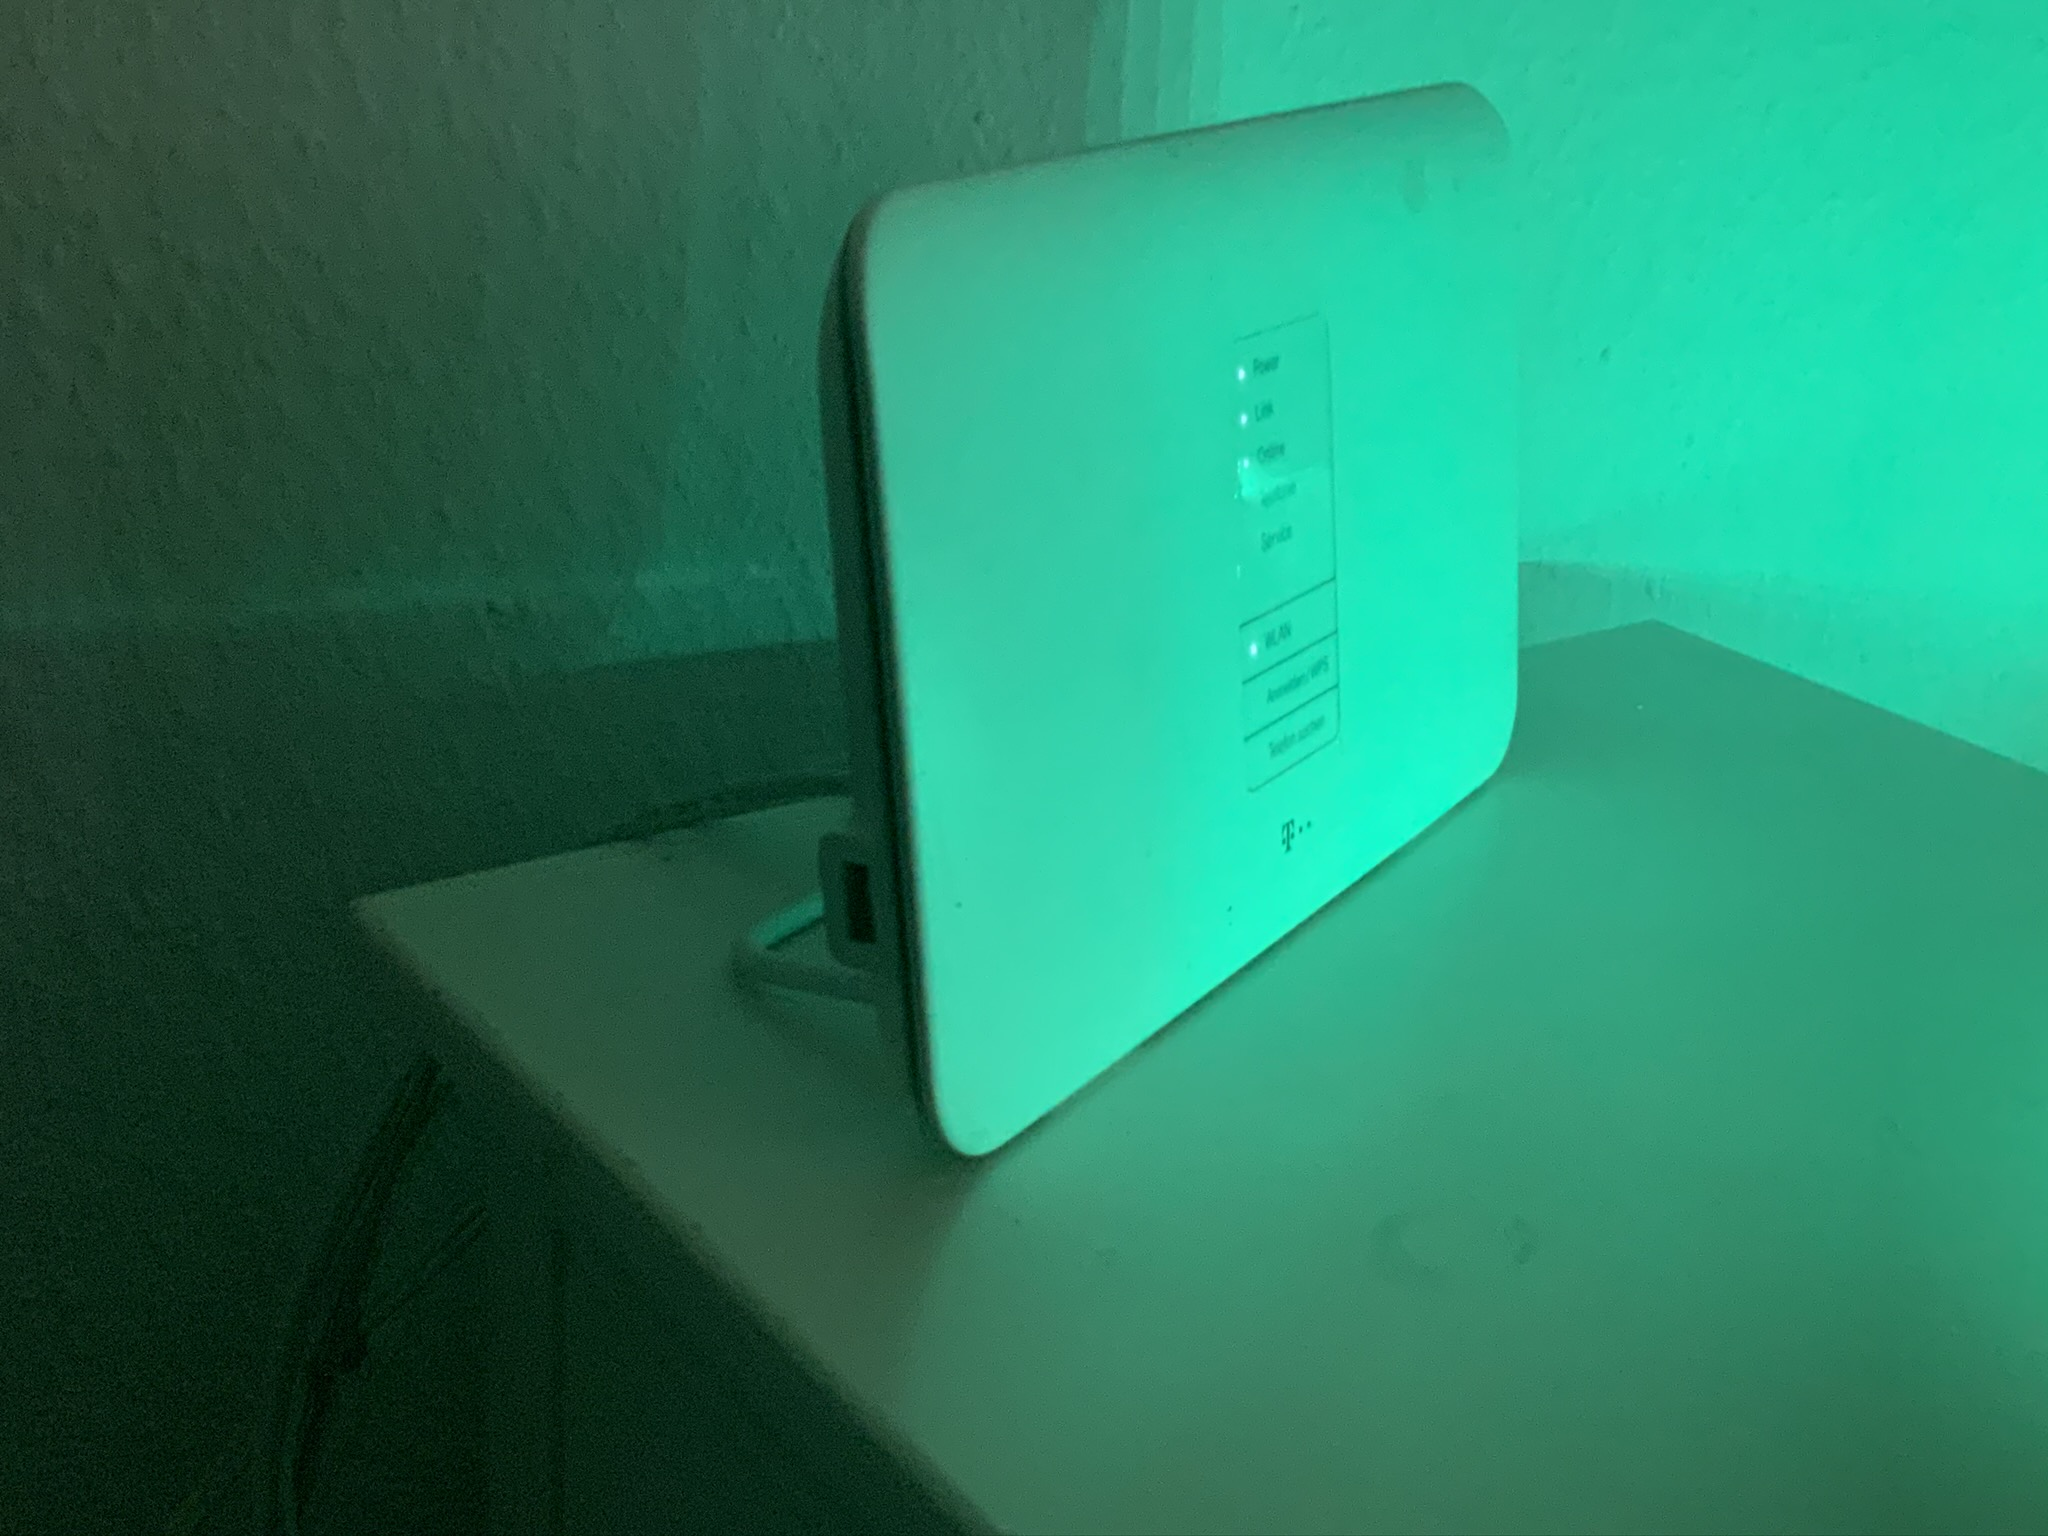router: (814, 77, 1534, 1170)
